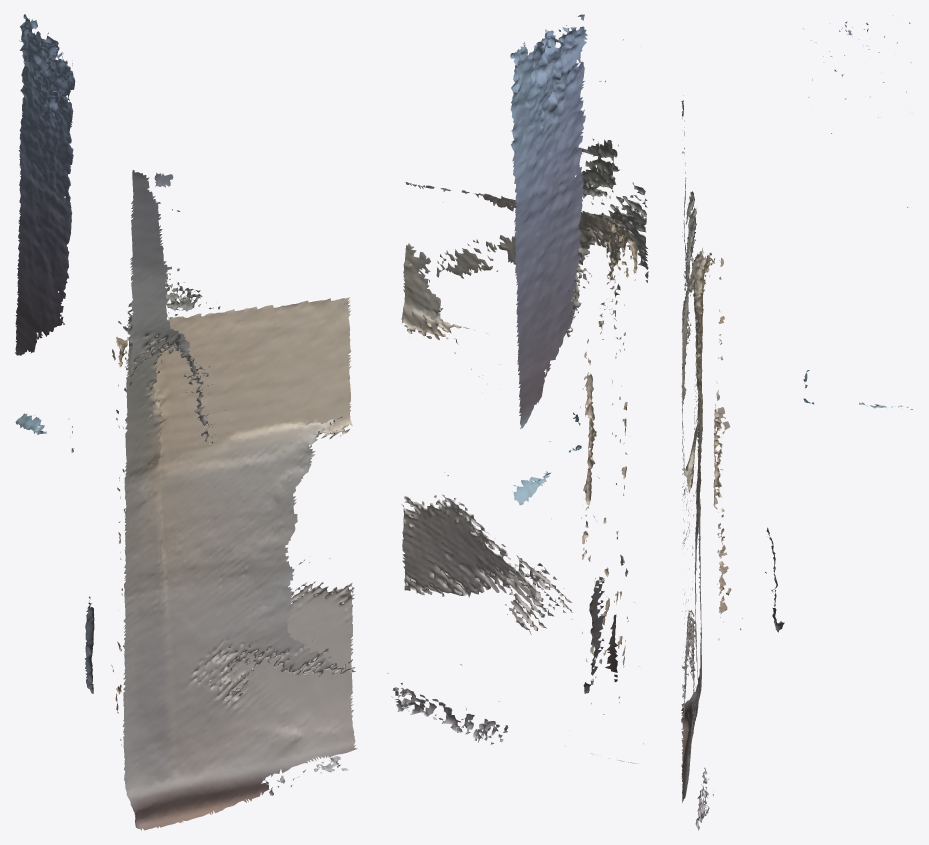
File: apartment-full-58-4953eee456ed.glb
3 renders of one model, left to right at view 1: azimuth 30°, elevation 25°; view 2: azimuth 150°, elevation 25°; view 3: azimuth 270°, elevation 25°, orthographic. The views are drawn at different scales.
Bounding box in the file's own units: 0.695 × 2.18 × 0.638.
